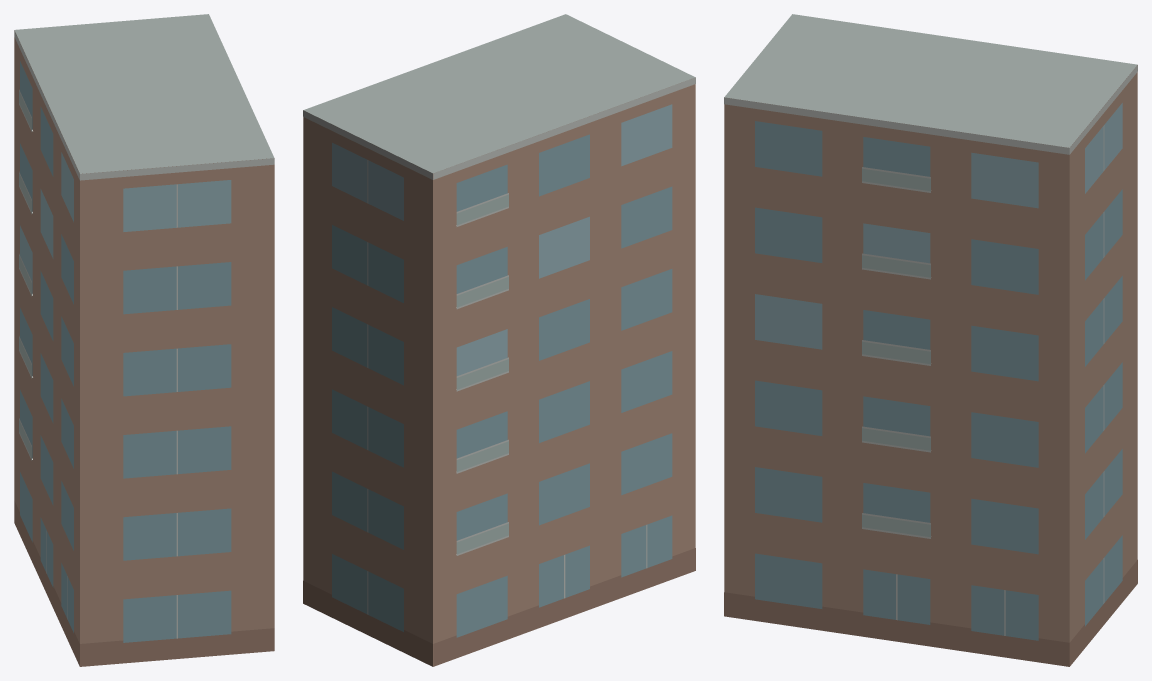
Rendered from survey-upis-32600294.glb.
3 views of the same model, side by side, from view 1: azimuth 30°, elevation 25°; view 2: azimuth 150°, elevation 25°; view 3: azimuth 270°, elevation 25° (orthographic). The views are drawn at different scales.
Visible parts, largest first — view 1: survey-upis-32600294.tmp; view 2: survey-upis-32600294.tmp; view 3: survey-upis-32600294.tmp.
Part boxes in pixels (x1=…): survey-upis-32600294.tmp: x1=14, y1=14, x2=274, y2=666; survey-upis-32600294.tmp: x1=303, y1=14, x2=695, y2=666; survey-upis-32600294.tmp: x1=724, y1=14, x2=1137, y2=666.
Bounding box in the file's own units: 10.08 × 18.2 × 13.16.
